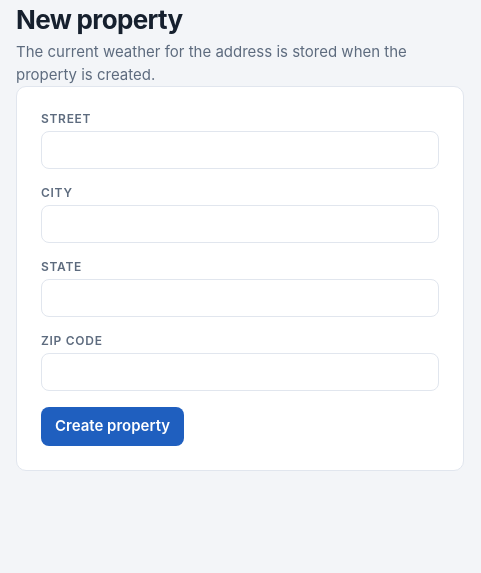
Test: CreatePage › a network error shows the generic message and keeps the entered values
Type "15528 E Golden Eagle Blvd" into the field labelled "Street" at (240, 150), box [41,131,439,169]
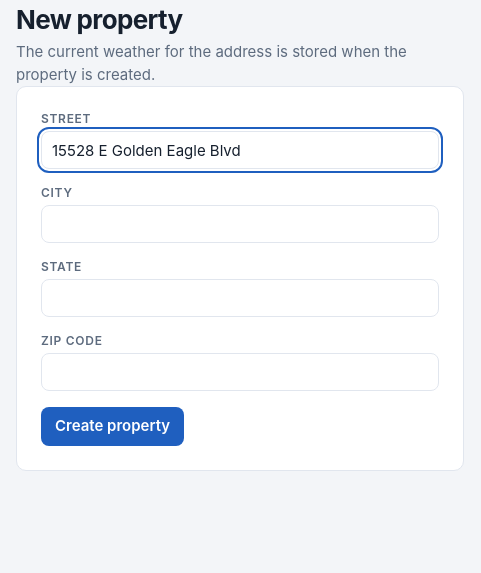
Type "Fountain Hills" into the field labelled "City" at (240, 224), box [41,205,439,243]
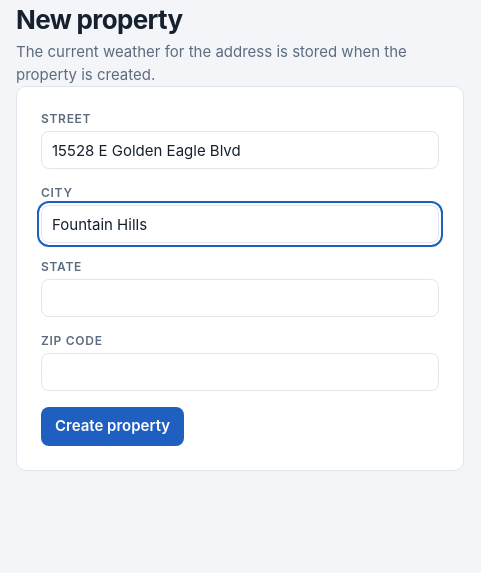
Type "AZ" into the field labelled "State" at (240, 298), box [41,279,439,317]
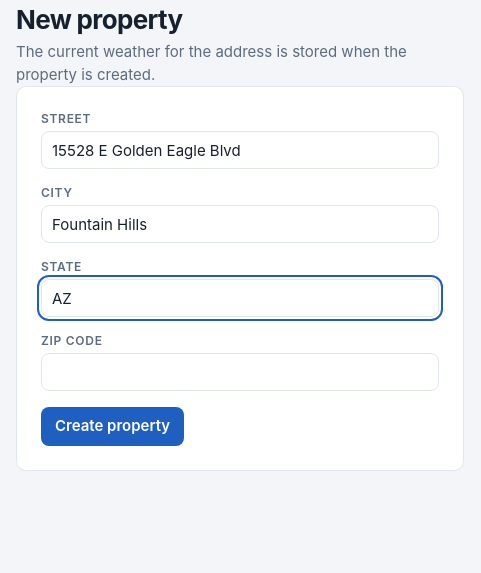
Type "85268" into the field labelled "Zip code" at (240, 372), box [41,353,439,391]
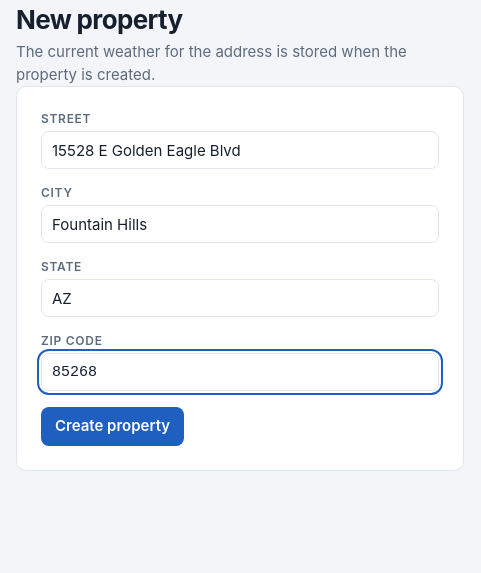
Click the button "Create property" at (113, 426), box [41,407,184,446]
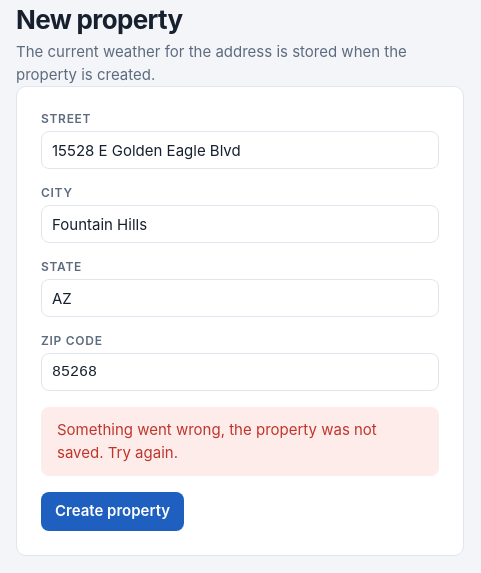
Now the message reads "Something went wrong, the property was not saved. Try again.", box [57,420,377,462]
